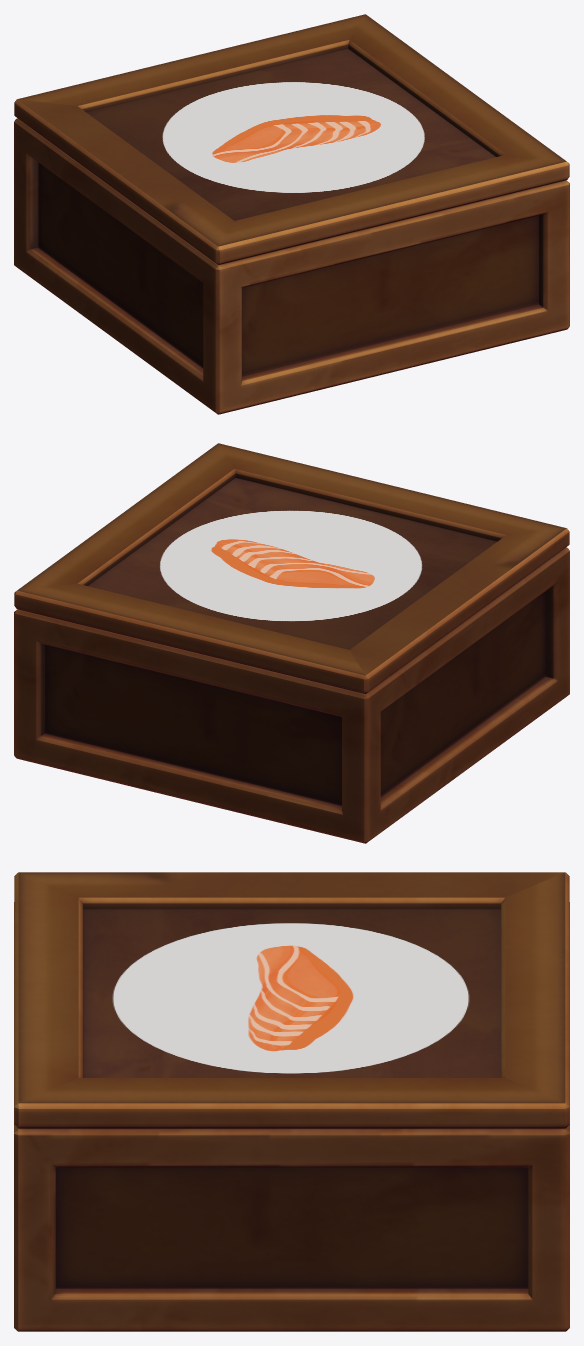
Rendered from fishbin.glb.
3 views of the same model, one above another, from view 1: azimuth 30°, elevation 25°; view 2: azimuth 150°, elevation 25°; view 3: azimuth 270°, elevation 25° (orthographic). The views are drawn at different scales.
Parts seen in each view (by area): view 1: FoodGetter; view 2: FoodGetter; view 3: FoodGetter.
Part boxes in pixels (x1=…): FoodGetter: x1=14, y1=14, x2=569, y2=414; FoodGetter: x1=14, y1=443, x2=569, y2=843; FoodGetter: x1=14, y1=872, x2=569, y2=1331.
Size of the model in its own units: 2 by 0.9061 by 2.
2 materials, 2 textured.
